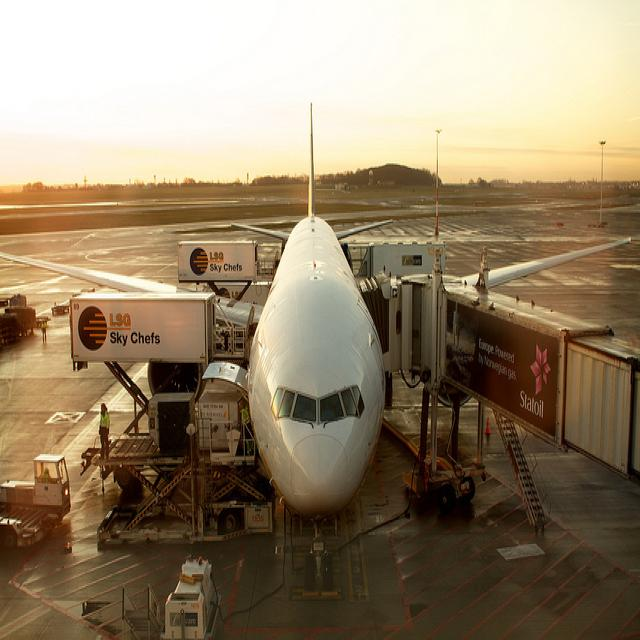Vehicle: (0, 454, 71, 552), (166, 553, 225, 640)
